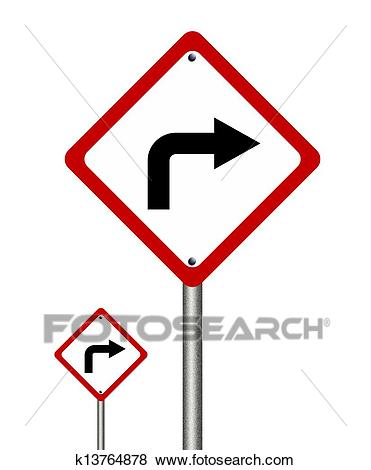right: (145, 114, 261, 214), (84, 339, 125, 377)
